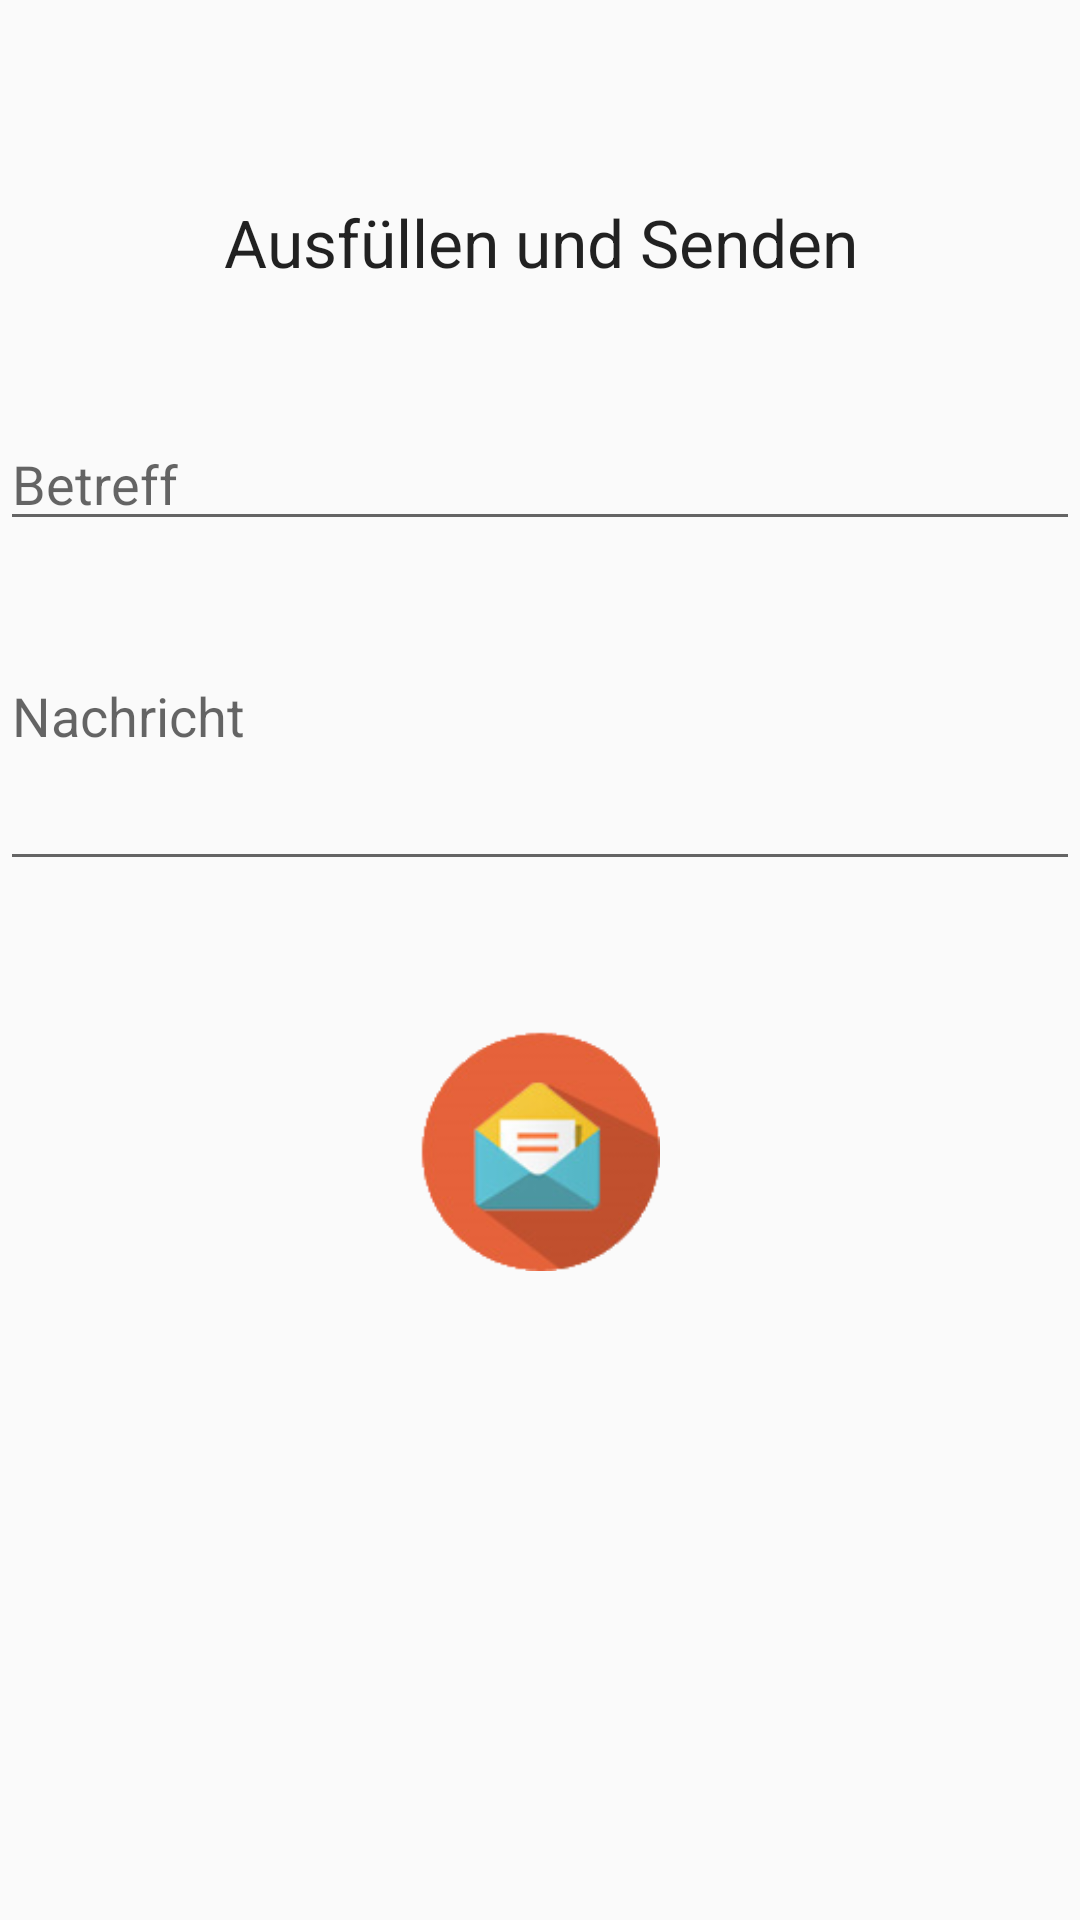

Screen size 1080*1920. Icon name, then its center in pixels as [x,y]:
mailsend: [540,1151]
